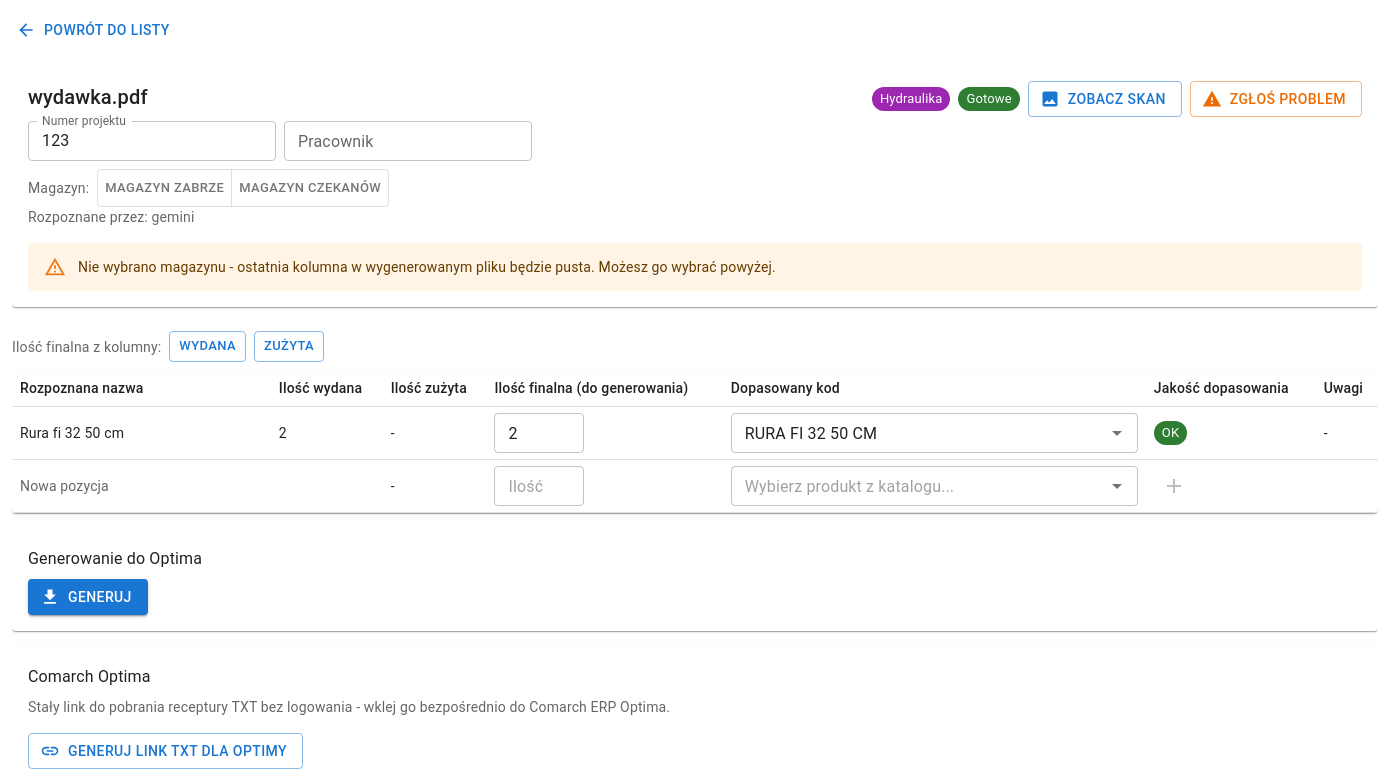
Test: DocumentDetailPage - link Optima › pozwala wygenerowac link, skopiowac go i unieważnic
Expected: the dropdown showing "RURA FI 32 50 CM" is shown, [737,419,1073,447]
Click the button "Generuj link TXT dla Optimy". click: [165, 751]
box: [28,733,303,769]
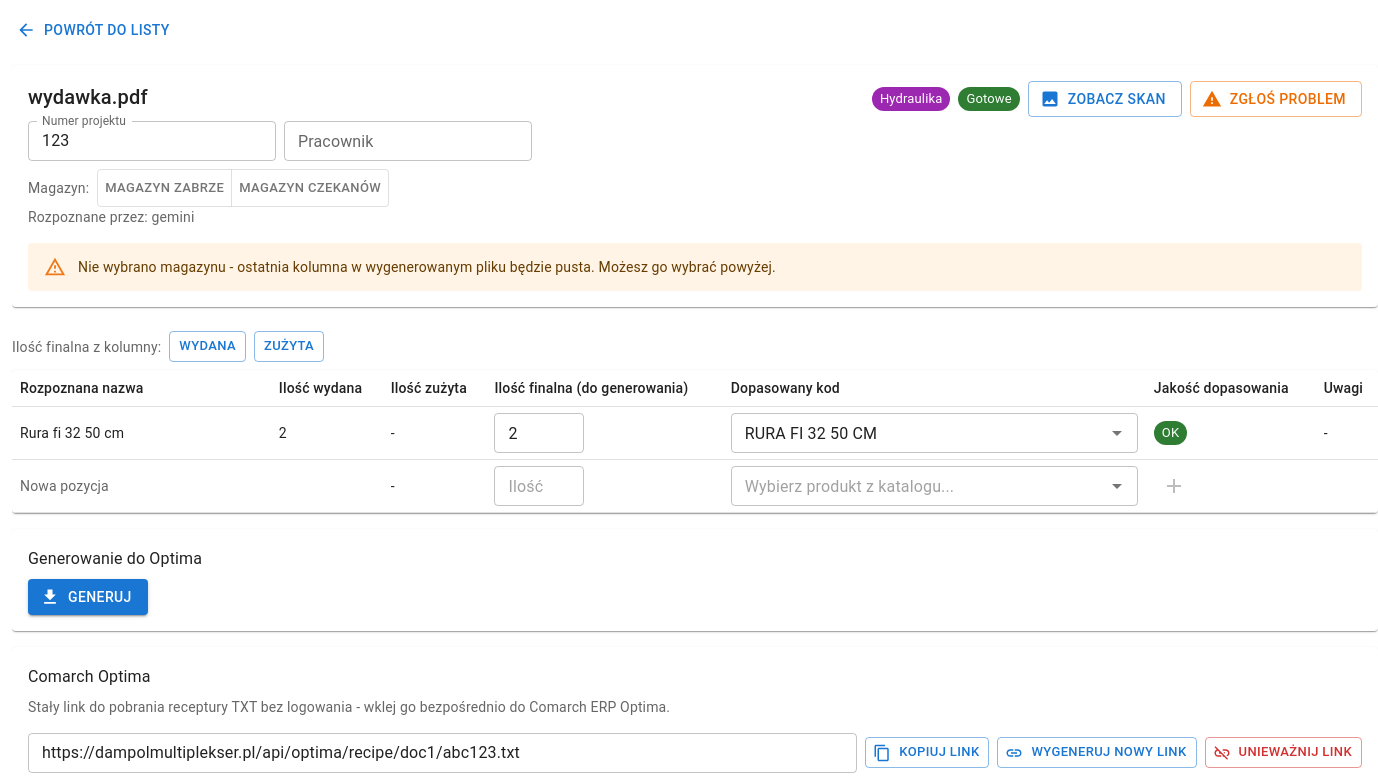
Now the field showing "https://dampolmultiplekser.pl/api/optima/recipe/doc1/abc123.txt" is shown, box [28,733,857,773]
Click the button "Kopiuj link". click: [927, 753]
box: [865,737,990,768]
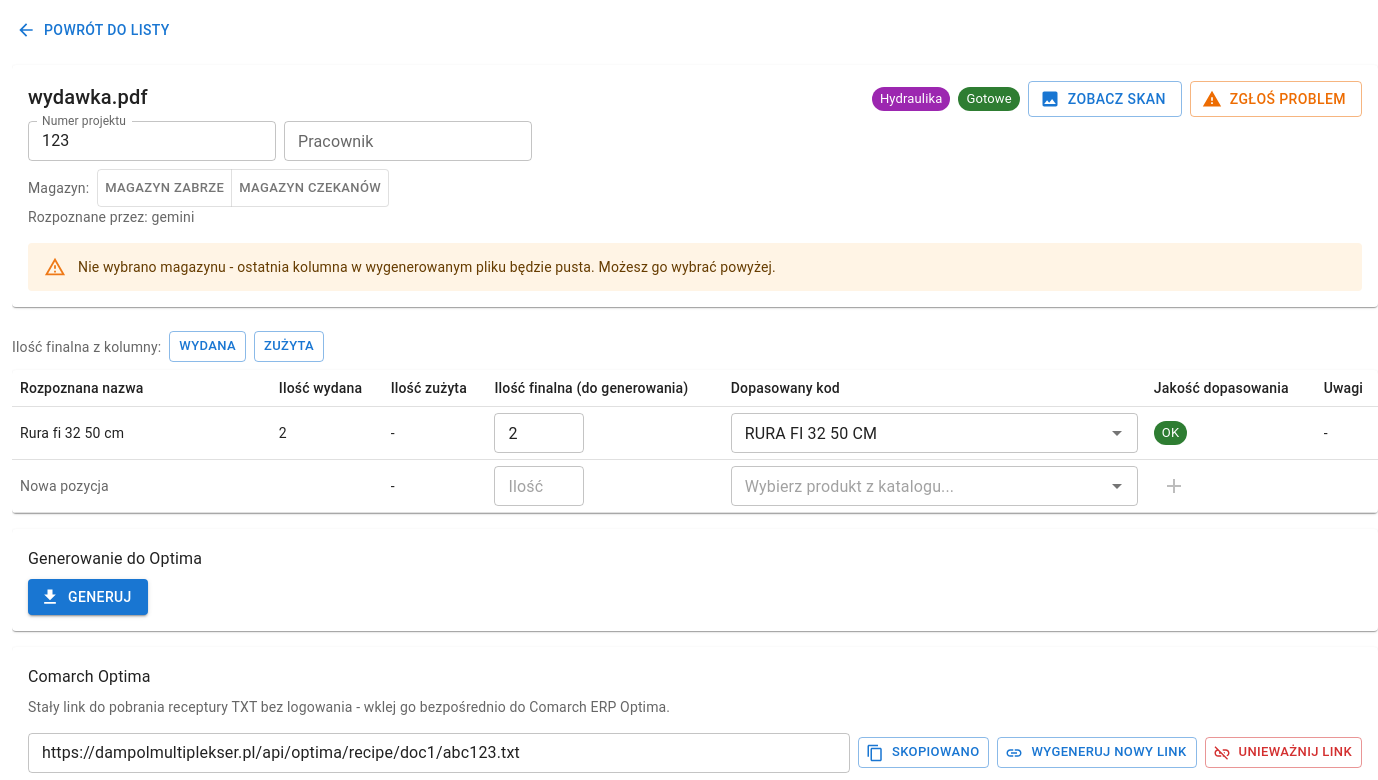
Now the button "Skopiowano" is shown, box [858,737,989,768]
Click the button "Unieważnij link". click: [1283, 753]
box: [1204,737,1362,768]
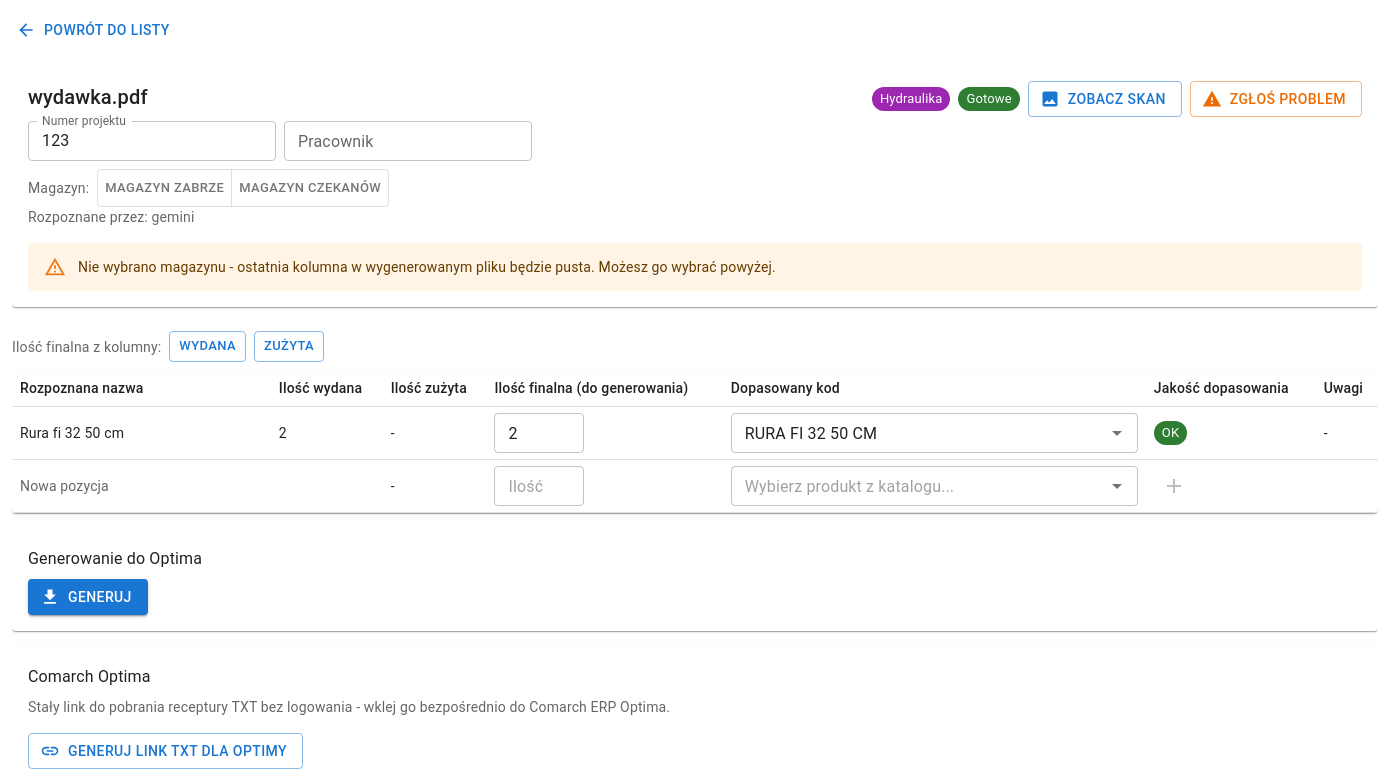
Now the button "Generuj link TXT dla Optimy" is shown, box [28,733,303,769]
